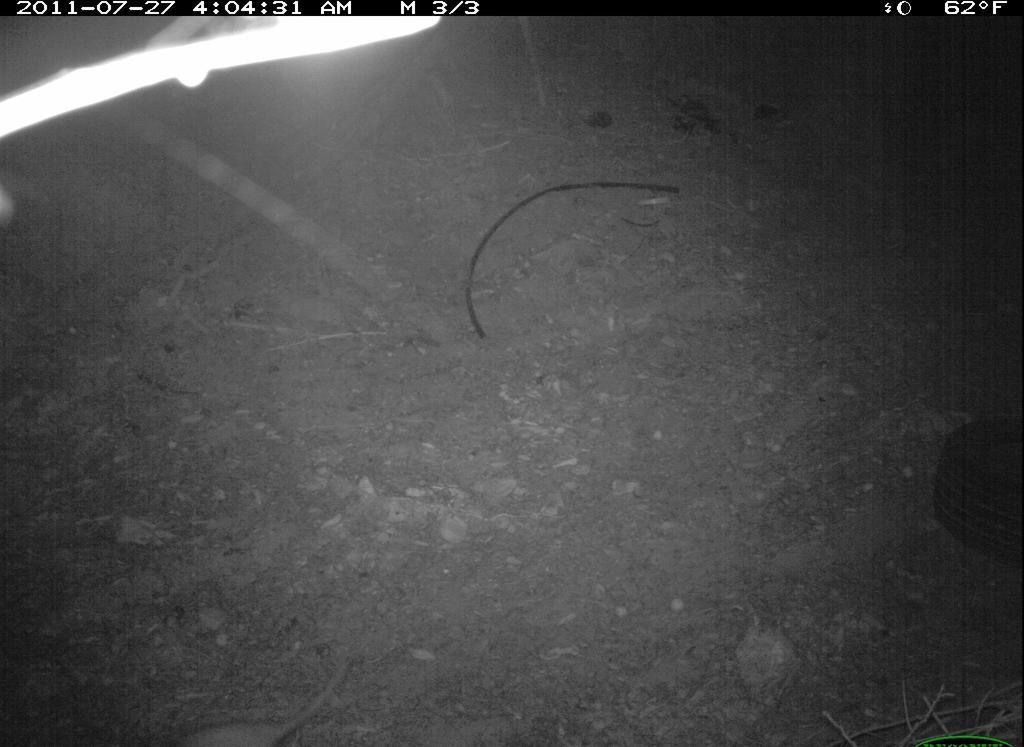opossum: (171, 658, 356, 747)
